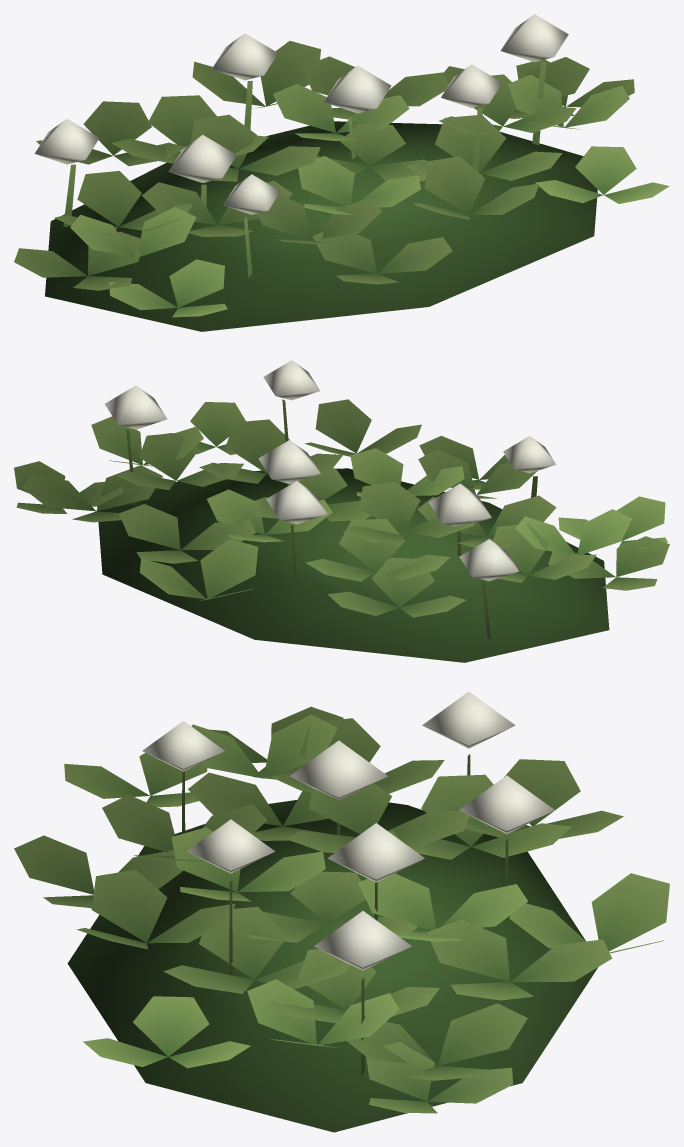
File: clover-patch.glb
The picture shows the model from 3 angles, top to bottom: view 1: azimuth 30°, elevation 25°; view 2: azimuth 150°, elevation 25°; view 3: azimuth 270°, elevation 25°; orthographic projection. The views are drawn at different scales.
Visible parts, largest first — view 1: clover_patch_clover_leaf, clover_patch_flower_white; view 2: clover_patch_clover_leaf, clover_patch_flower_white; view 3: clover_patch_clover_leaf, clover_patch_flower_white.
Part boxes in pixels (x1,y1,x2,y2): clover_patch_clover_leaf: (14,41,669,331); clover_patch_flower_white: (34,14,568,214); clover_patch_clover_leaf: (14,399,669,662); clover_patch_flower_white: (105,360,555,581); clover_patch_clover_leaf: (14,706,669,1132); clover_patch_flower_white: (142,691,554,970).
Size of the model in its own units: 0.6038 by 0.1478 by 0.4183.
